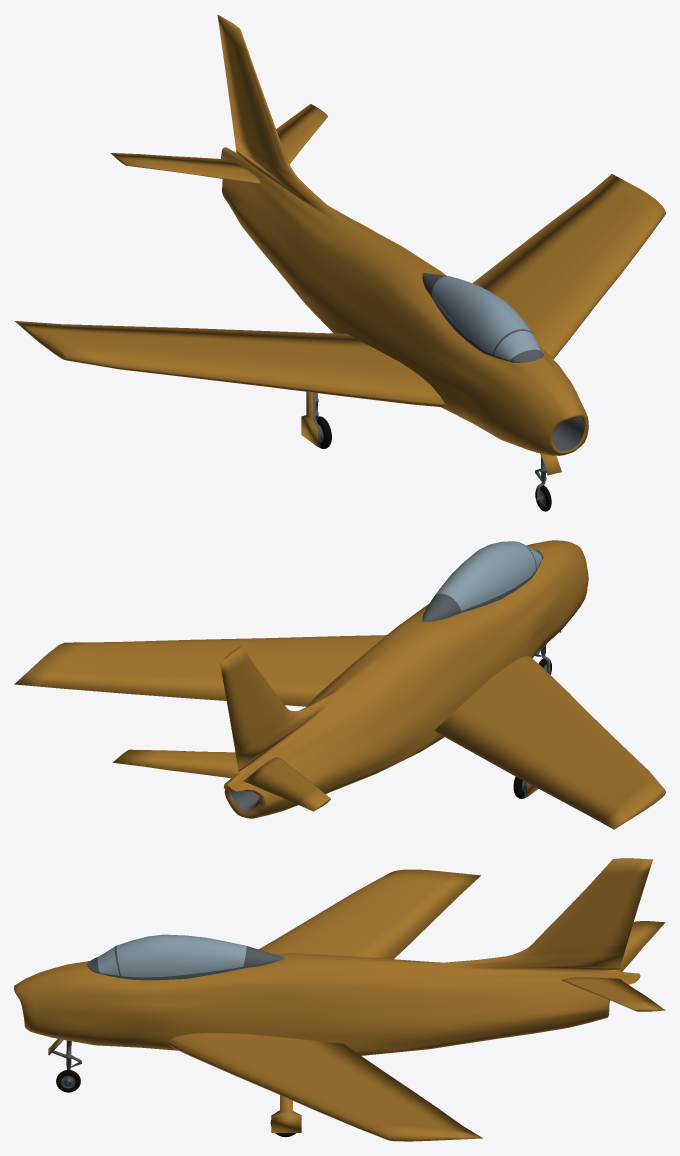
The model's file is CanadairSabre_printable.glb.
3 views of the same model, one above another, from view 1: azimuth 30°, elevation 25°; view 2: azimuth 150°, elevation 25°; view 3: azimuth 270°, elevation 25° (orthographic). The views are drawn at different scales.
Parts seen in each view (by area): view 1: fuselage, mainWings, canopy, hStab, mainGearRT, noseGear; view 2: fuselage, mainWings, canopy, hStab; view 3: fuselage, mainWings, canopy, hStab, mainGearLt, noseGear.
Boxes of the visible parts, <box> form: fuselage: <box>217,15,588,455</box>; mainWings: <box>14,174,665,407</box>; canopy: <box>422,272,543,362</box>; hStab: <box>110,104,327,183</box>; mainGearRT: <box>301,391,331,448</box>; noseGear: <box>535,453,561,511</box>; fuselage: <box>220,540,588,818</box>; mainWings: <box>14,635,665,829</box>; canopy: <box>422,541,543,622</box>; hStab: <box>113,749,330,811</box>; fuselage: <box>14,858,652,1055</box>; mainWings: <box>166,869,482,1141</box>; canopy: <box>87,934,285,980</box>; hStab: <box>562,921,665,1011</box>; mainGearLt: <box>270,1095,301,1137</box>; noseGear: <box>48,1039,81,1092</box>.
Size of the model in its own units: 10.91 by 4.47 by 11.28.
2 materials, 2 textured.
